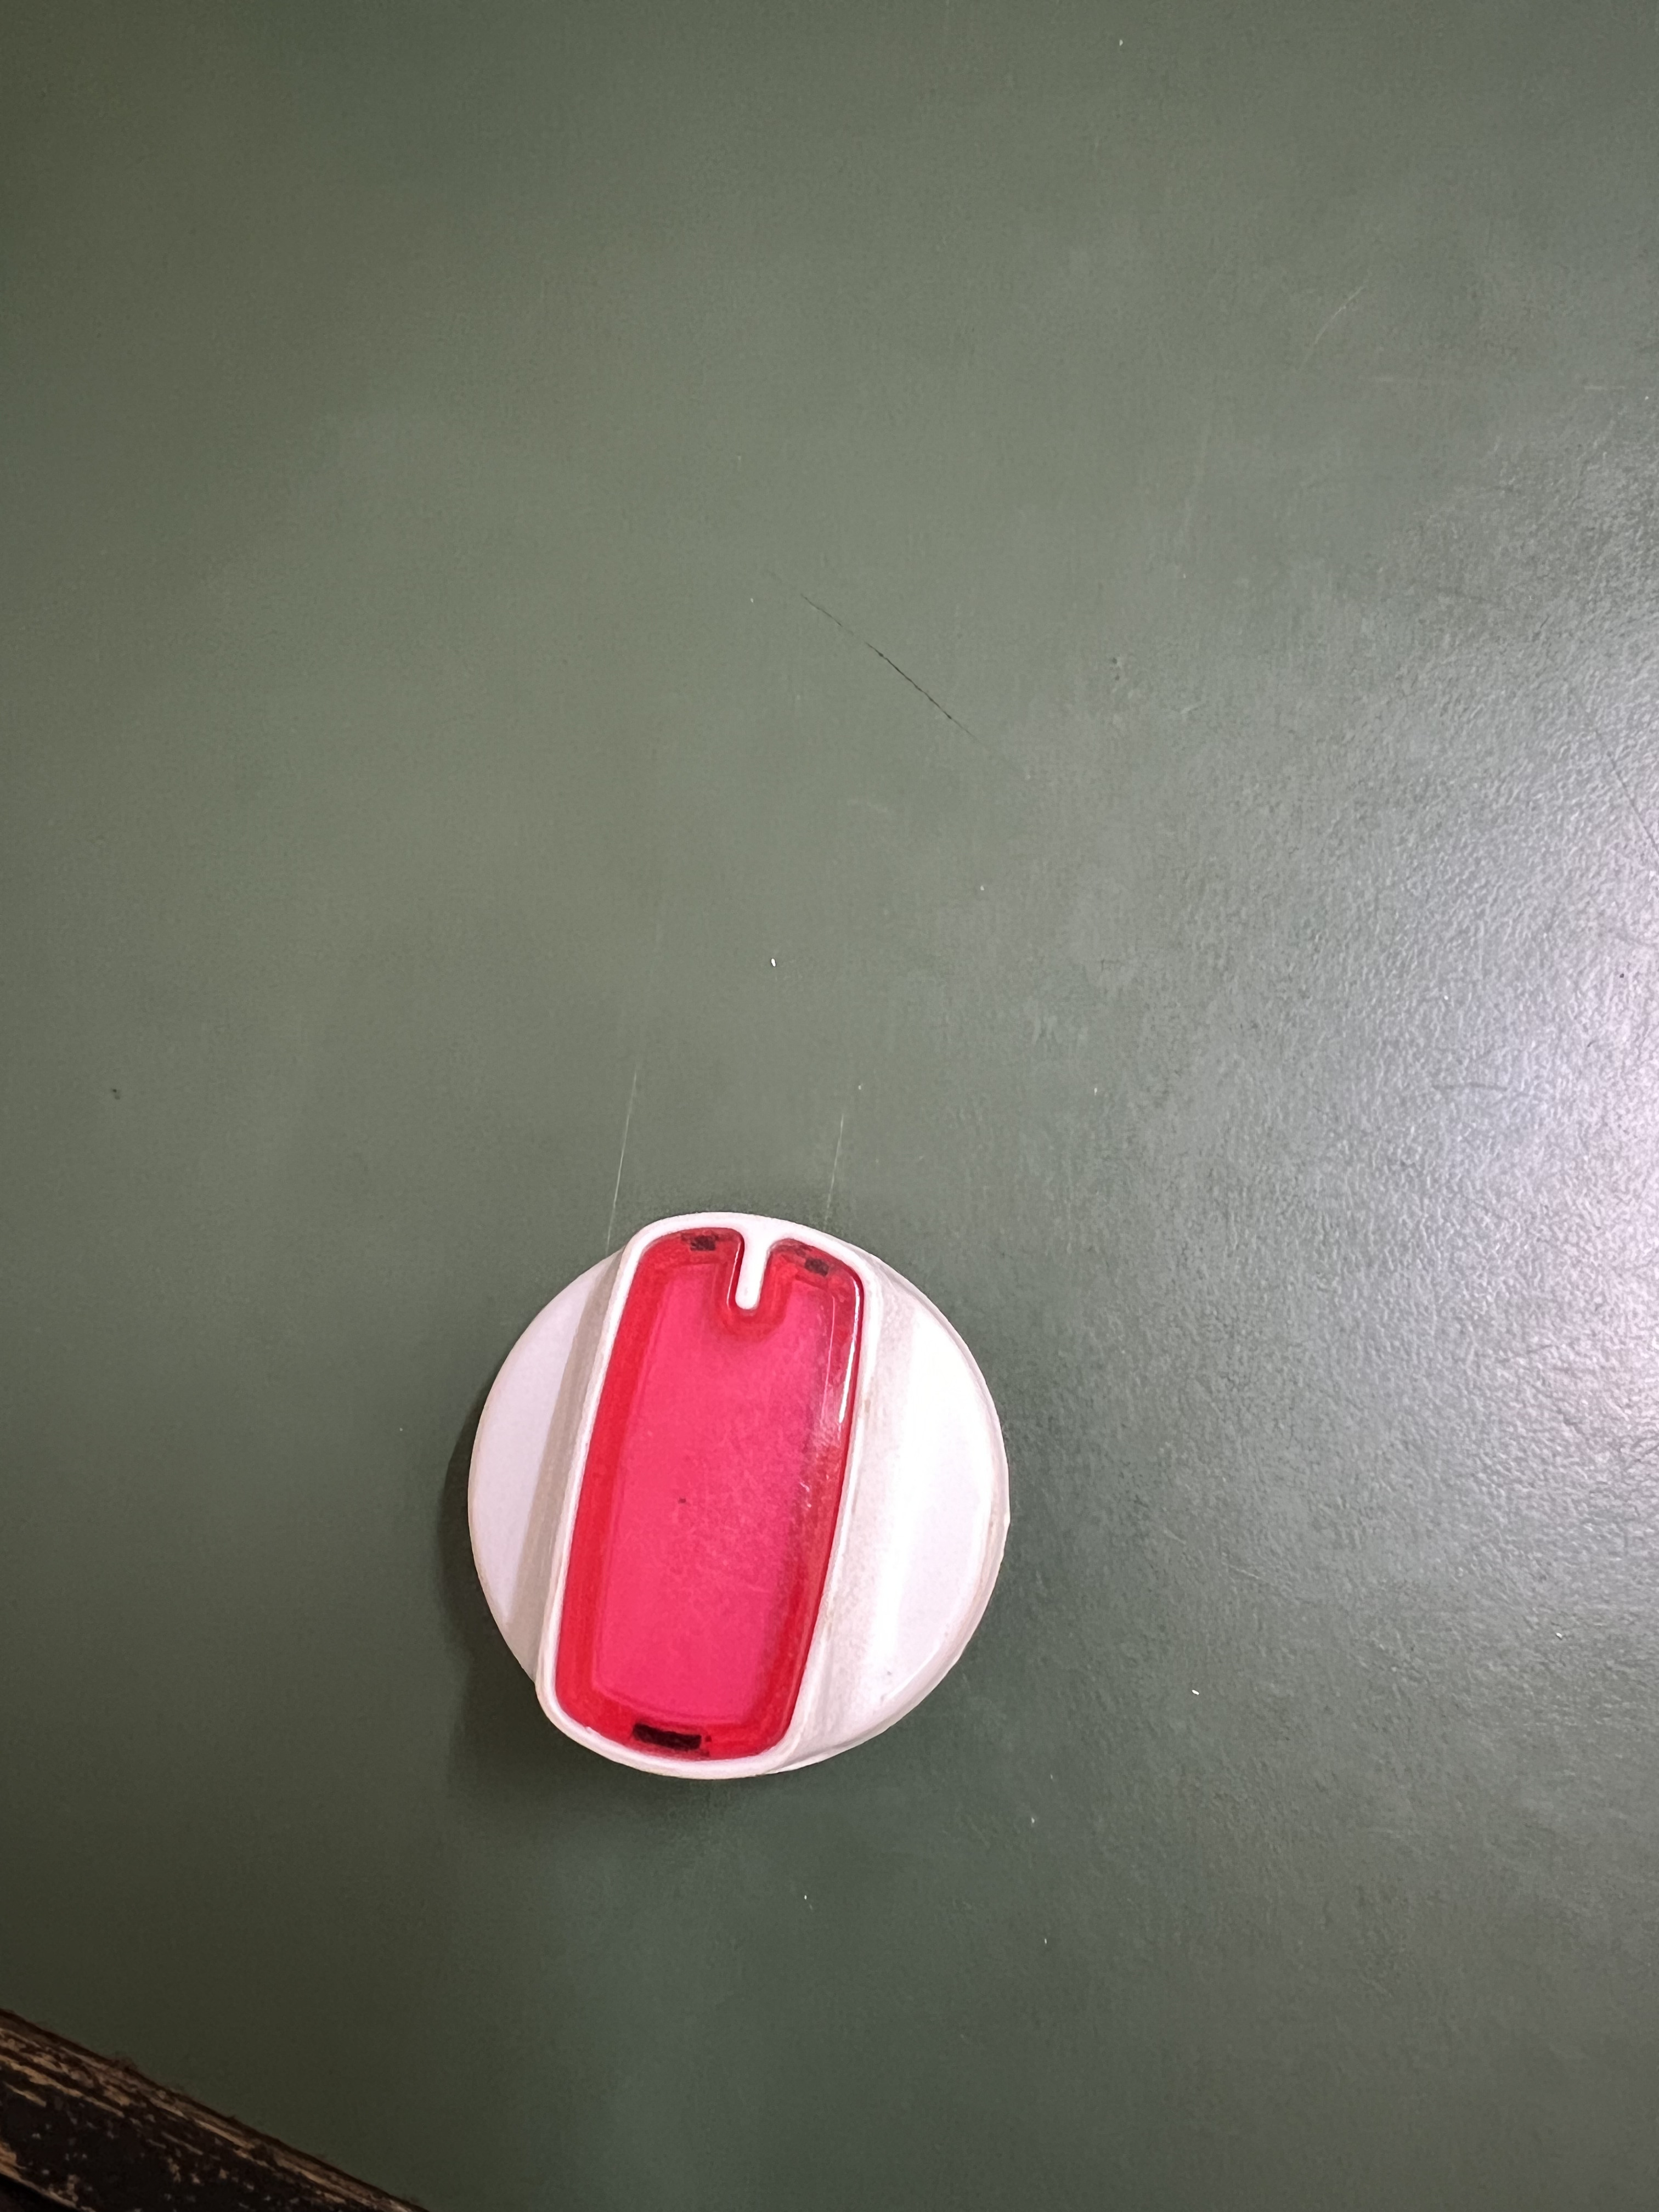regulator: (429, 1191, 1039, 1761)
